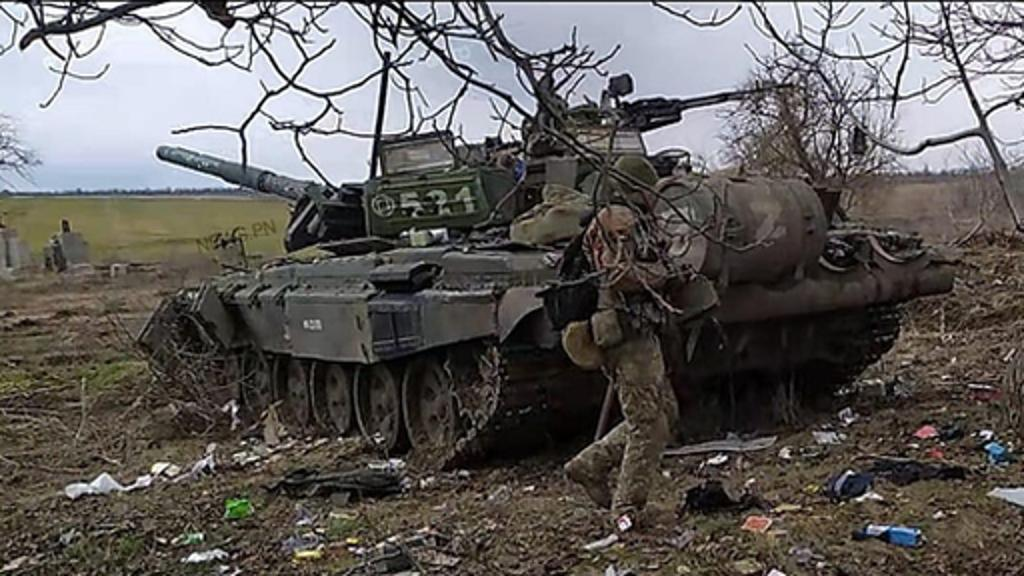TANK: (120, 74, 952, 480)
